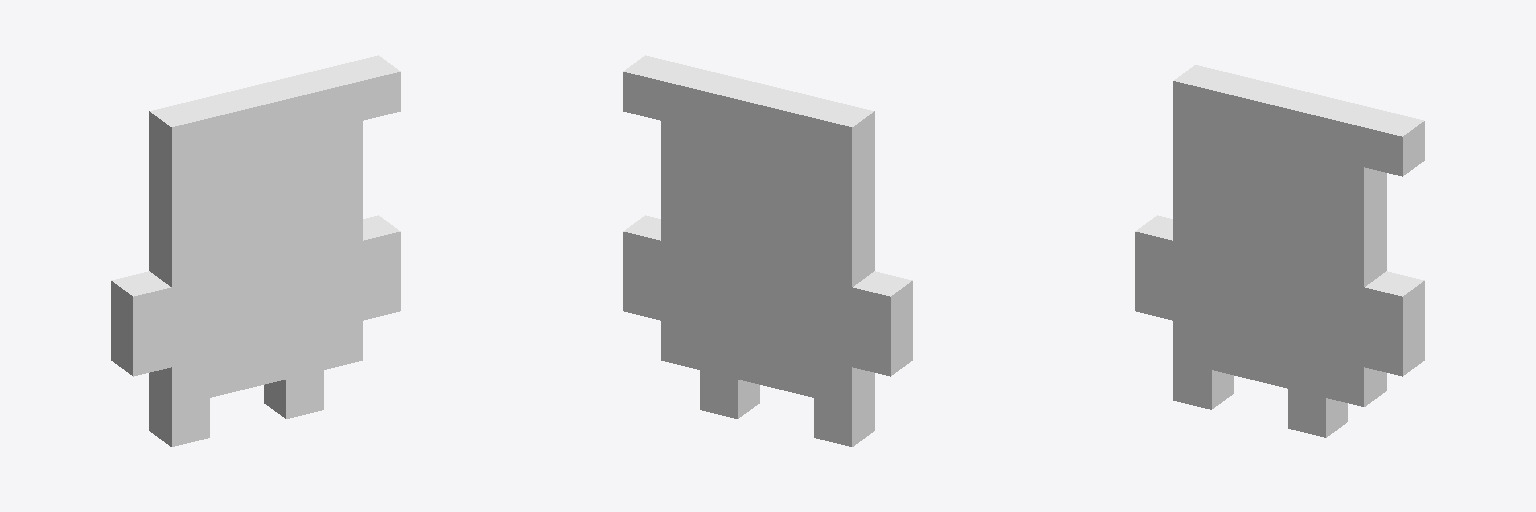
Rendered from Player_still.obj.
3 views of the same model, side by side, from view 1: azimuth 30°, elevation 25°; view 2: azimuth 150°, elevation 25°; view 3: azimuth 330°, elevation 25° (orthographic).
Visible parts, largest first — view 1: object 2; view 2: object 2; view 3: object 2.
Part boxes in pixels (bbox=[...]): object 2: bbox=[111, 55, 400, 446]; object 2: bbox=[623, 55, 912, 446]; object 2: bbox=[1135, 65, 1424, 437].
Size of the model in its own units: 0.7 by 0.8 by 0.1.